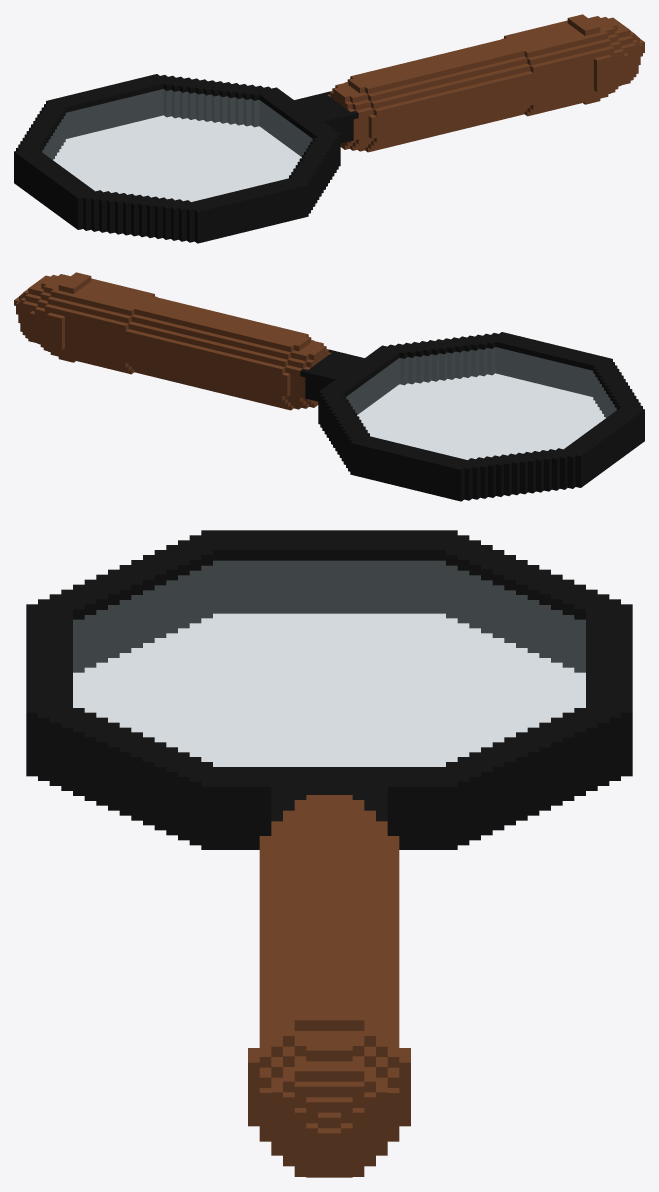
Rendered from magnifying_glass.glb.
The picture shows the model from 3 angles, top to bottom: view 1: azimuth 30°, elevation 25°; view 2: azimuth 150°, elevation 25°; view 3: azimuth 270°, elevation 25°; orthographic projection. The views are drawn at different scales.
Parts seen in each view (by area): view 1: magnifying_glass:compound; view 2: magnifying_glass:compound; view 3: magnifying_glass:compound.
Boxes of the visible parts, bbox=[...] form: magnifying_glass:compound: bbox=[14, 14, 644, 243]; magnifying_glass:compound: bbox=[14, 272, 644, 501]; magnifying_glass:compound: bbox=[26, 530, 632, 1177].
Bounding box in the file's own units: 0.236 × 0.028 × 0.104.
